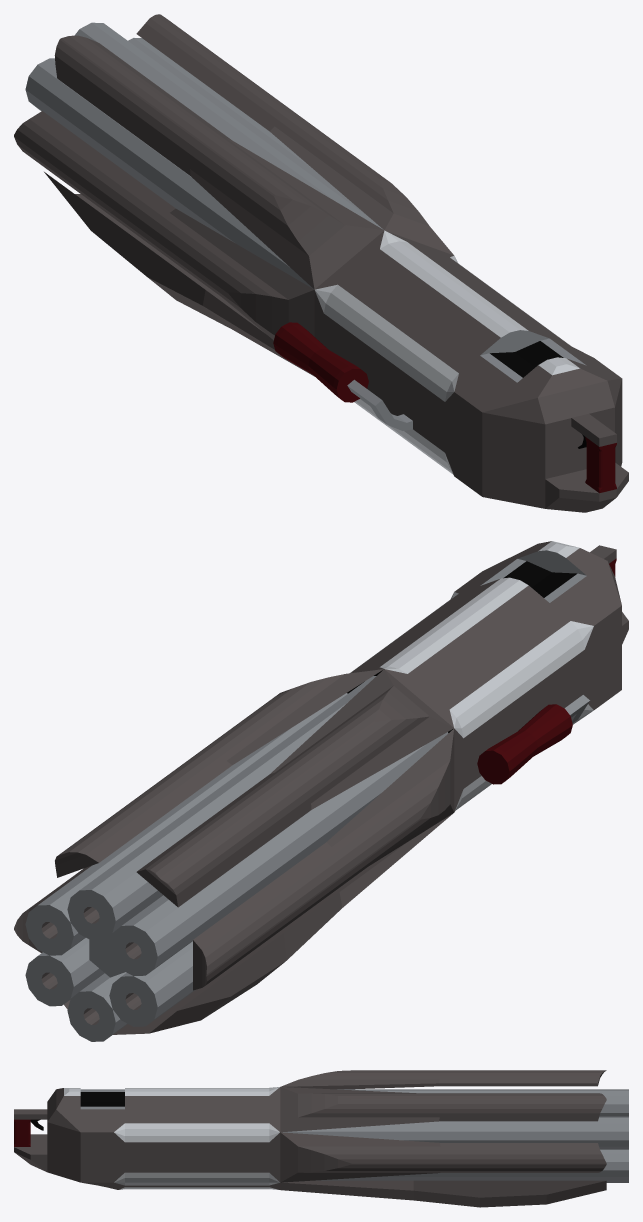
Rendered from Catling Gun_3DModel_3.fbx.
3 views of the same model, one above another, from view 1: azimuth 30°, elevation 25°; view 2: azimuth 150°, elevation 25°; view 3: azimuth 270°, elevation 25° (orthographic). The views are drawn at different scales.
Parts seen in each view (by area): view 1: Barrel Housing, Main Body, Barrels, Carry Handle; view 2: Barrel Housing, Barrels, Main Body, Carry Handle; view 3: Barrel Housing, Main Body, Barrels.
Part boxes in pixels (x1,y1,x2,y2): Barrel Housing: (14,14,453,376); Main Body: (314,230,628,512); Barrels: (25,22,383,288); Carry Handle: (273,322,412,430); Barrel Housing: (14,669,454,1034); Barrels: (25,676,448,1041); Main Body: (347,541,628,811); Carry Handle: (477,695,589,784); Barrel Housing: (280,1070,606,1207); Main Body: (14,1087,280,1189); Barrels: (283,1089,628,1182).
Bounding box in the file's own units: 0.6642 × 0.5917 × 2.77.
